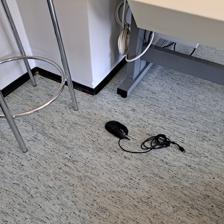mouse: (104, 119, 129, 139)
